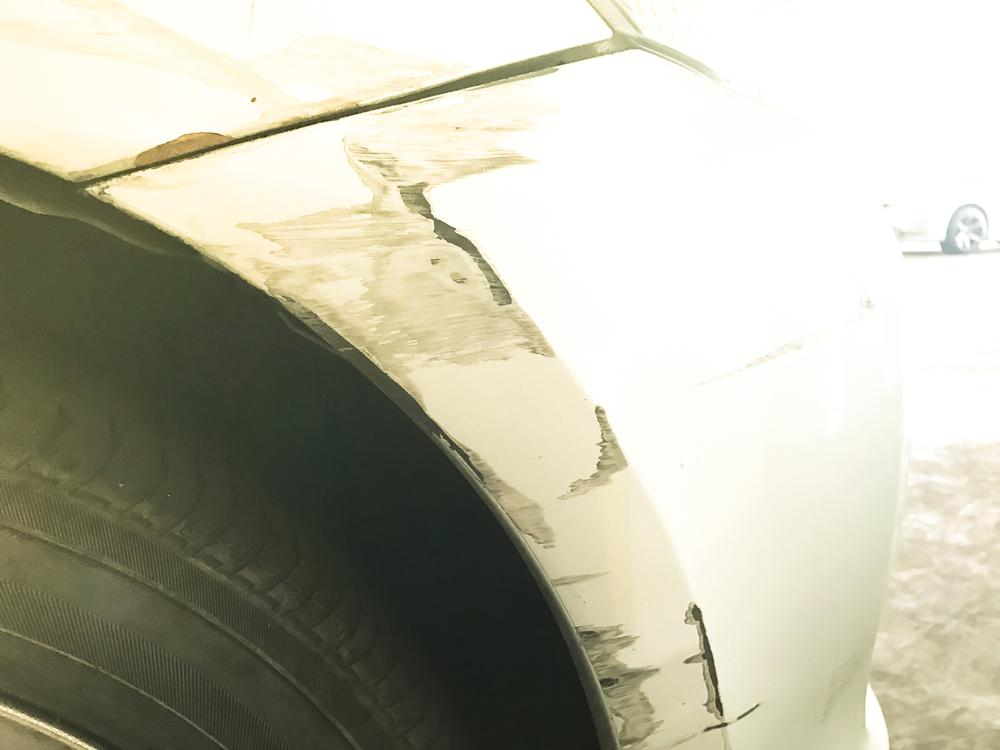scratch: (186, 64, 764, 750)
